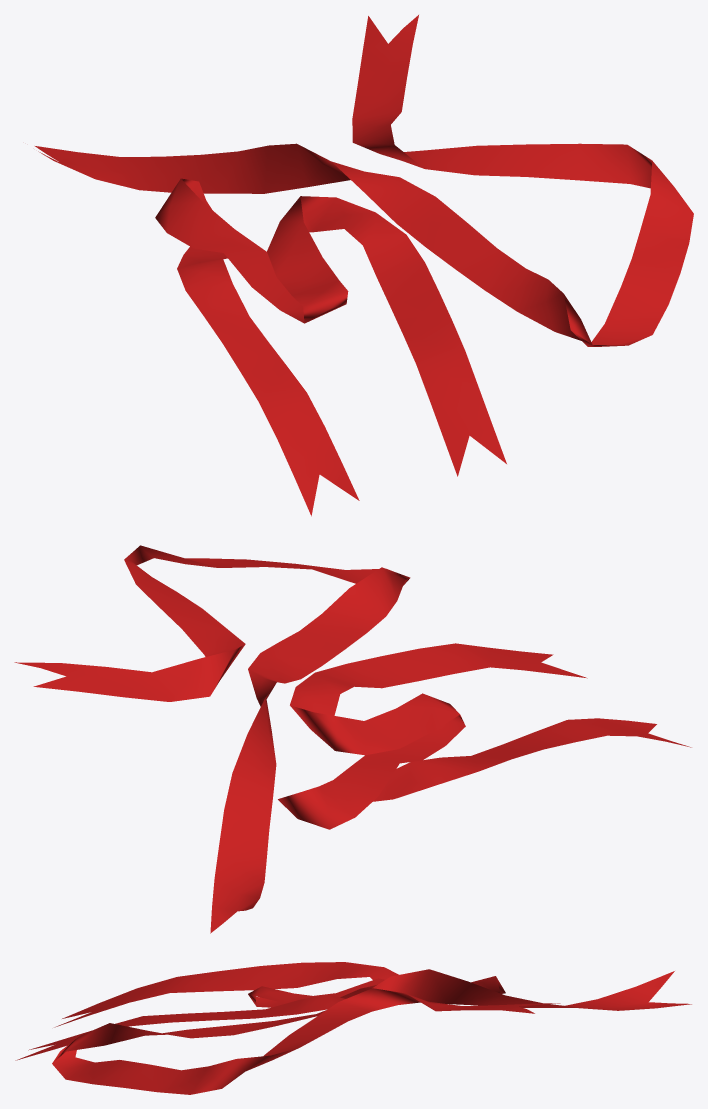
File: b_obj_rubans.fbx
3 views of the same model, one above another, from view 1: azimuth 30°, elevation 25°; view 2: azimuth 150°, elevation 25°; view 3: azimuth 270°, elevation 25° (orthographic). The views are drawn at different scales.
Parts seen in each view (by area): view 1: b_obj_rubans; view 2: b_obj_rubans; view 3: b_obj_rubans.
Part boxes in pixels (left/top/right/bottom): b_obj_rubans: left=35, top=15, right=693, bottom=516; b_obj_rubans: left=14, top=545, right=691, bottom=933; b_obj_rubans: left=15, top=962, right=691, bottom=1094.
Size of the model in its own units: 40.23 by 16.55 by 61.74.
